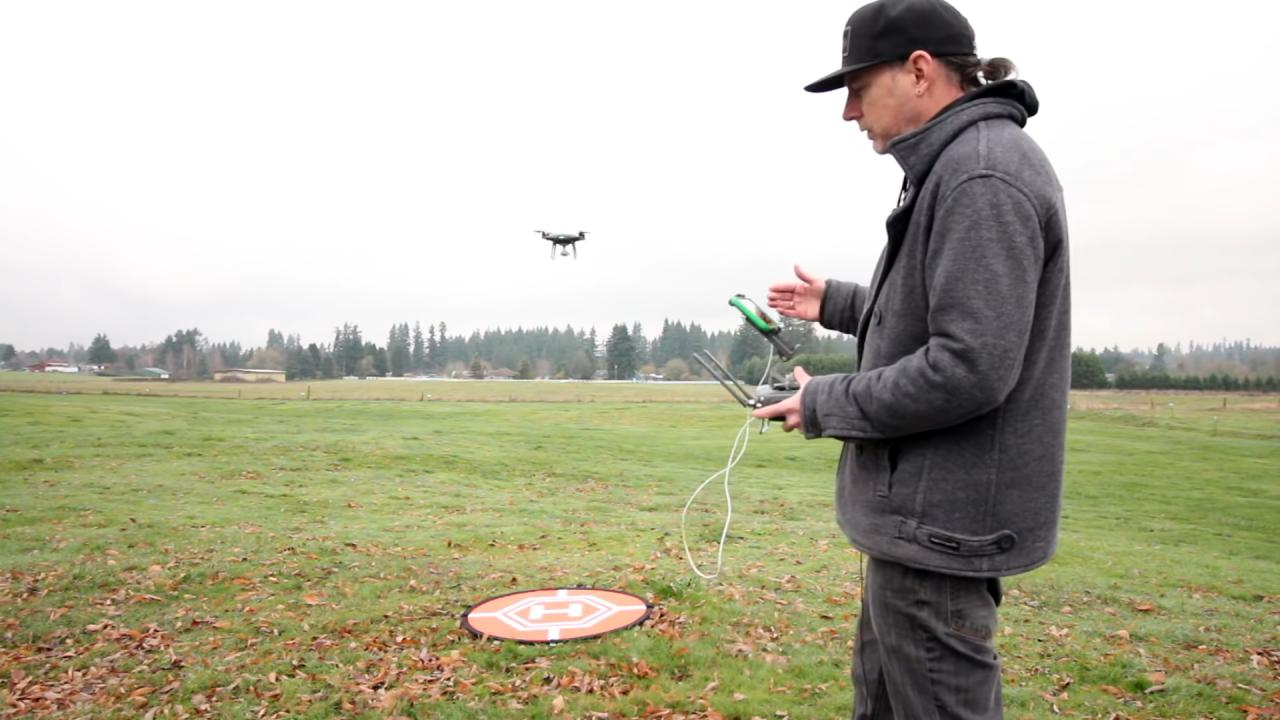Drone: (524, 221, 605, 265)
